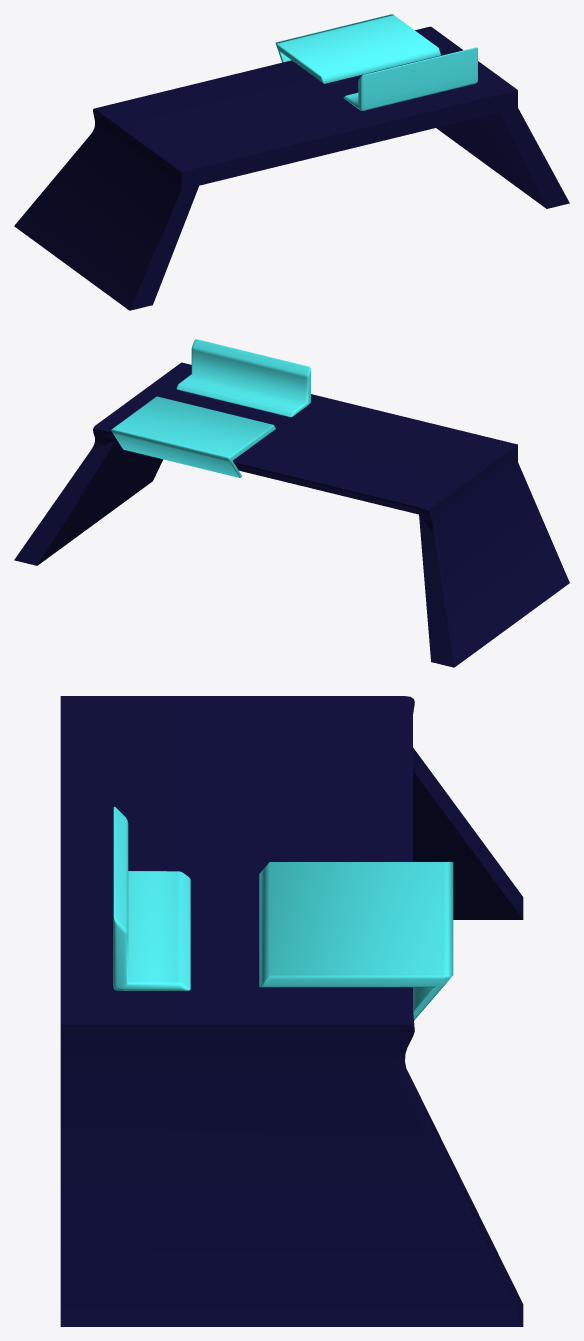
The model's file is bureau_for_serv.fbx.
3 renders of one model, top to bottom at view 1: azimuth 30°, elevation 25°; view 2: azimuth 150°, elevation 25°; view 3: azimuth 270°, elevation 25°, orthographic. The views are drawn at different scales.
Parts seen in each view (by area): view 1: Box023, Box024, Box025; view 2: Box023, Box024, Box025; view 3: Box023, Box024, Box025.
Boxes of the visible parts, x1,y1,x2,y2 form: Box023: (14, 26, 569, 310); Box024: (275, 14, 440, 83); Box025: (343, 47, 477, 110); Box023: (14, 362, 569, 667); Box024: (111, 396, 275, 477); Box025: (176, 339, 310, 417); Box023: (60, 696, 523, 1326); Box024: (259, 862, 453, 1020); Box025: (113, 806, 190, 990).
Size of the model in its own units: 69.2 by 24.91 by 31.49.
